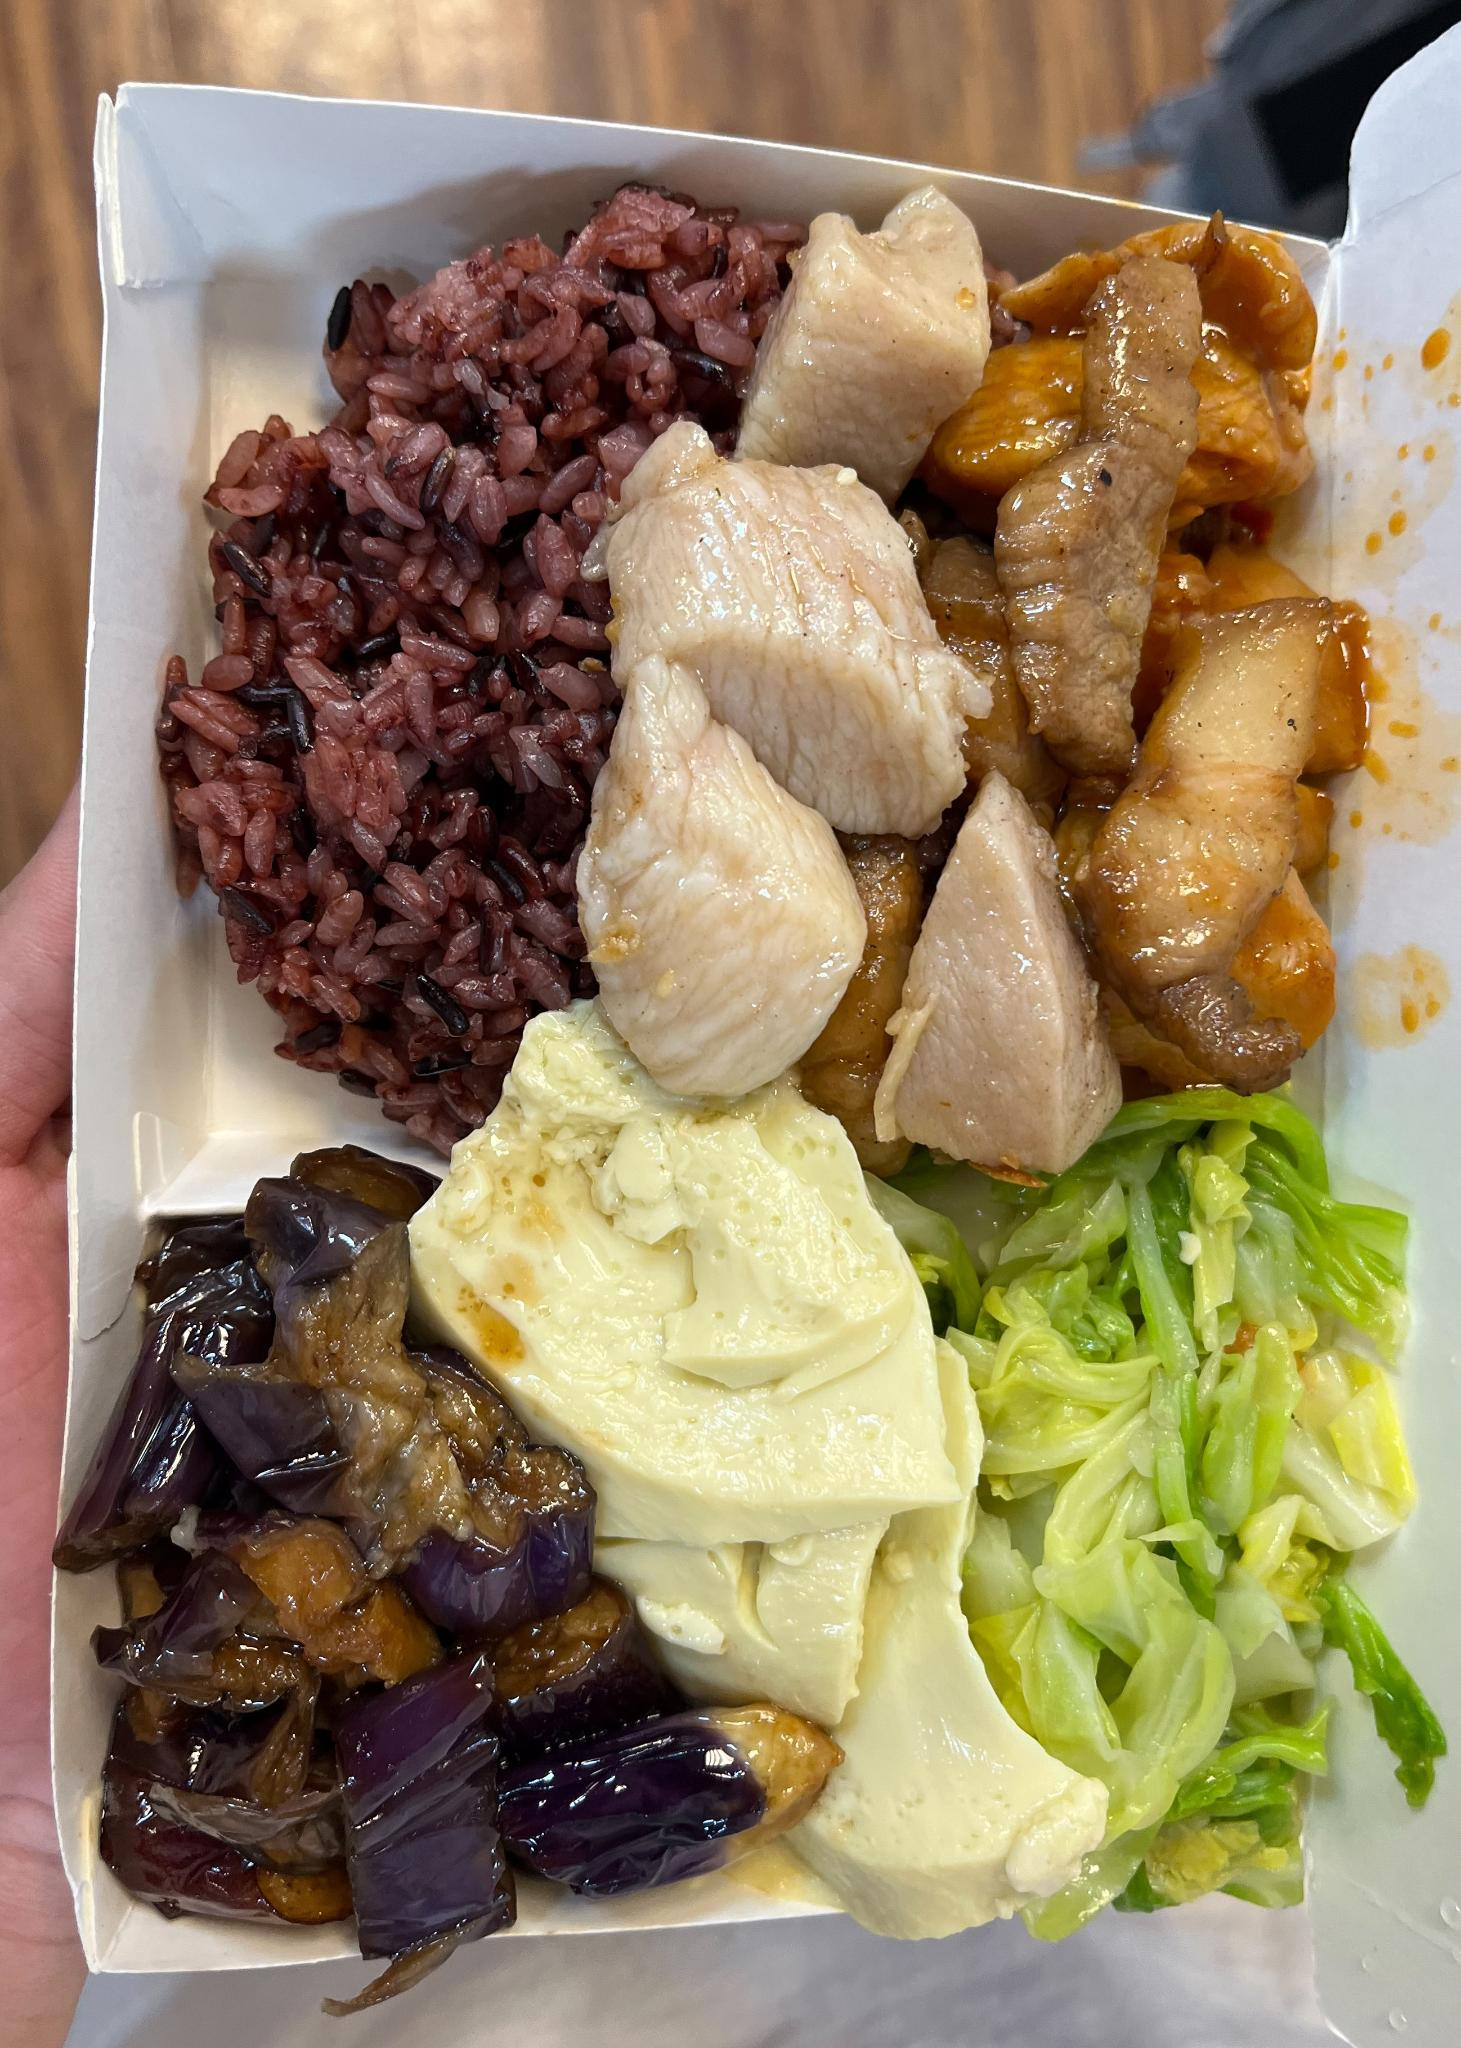big grilled chicken leg: (35, 28, 1401, 1971)
braised fish: (136, 182, 794, 1121)
braised fish fillet: (413, 1031, 1132, 1912), (82, 1167, 798, 1936), (919, 1101, 1423, 1904)
braised pork: (620, 193, 1099, 1180), (941, 209, 1360, 1093)
